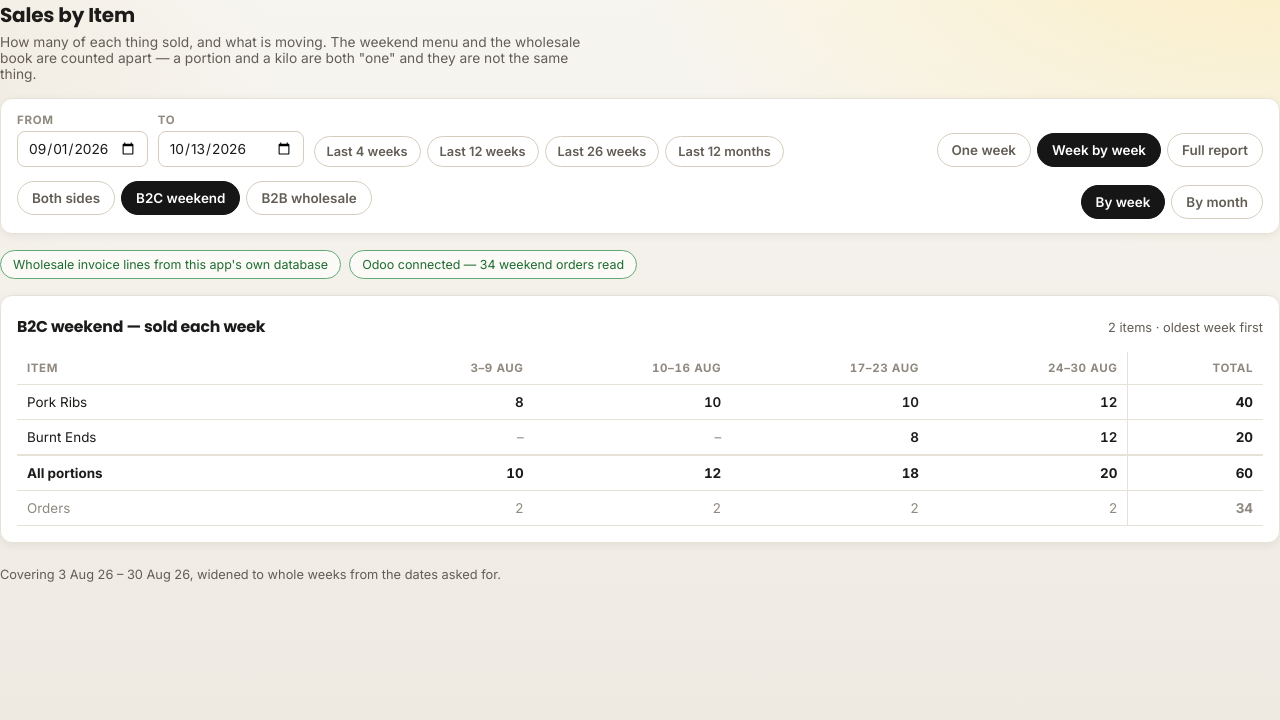
Scenario: shows one side alone when a side is picked
Click the button "Full report" at x=1215, y=150, box [1167, 133, 1263, 167]
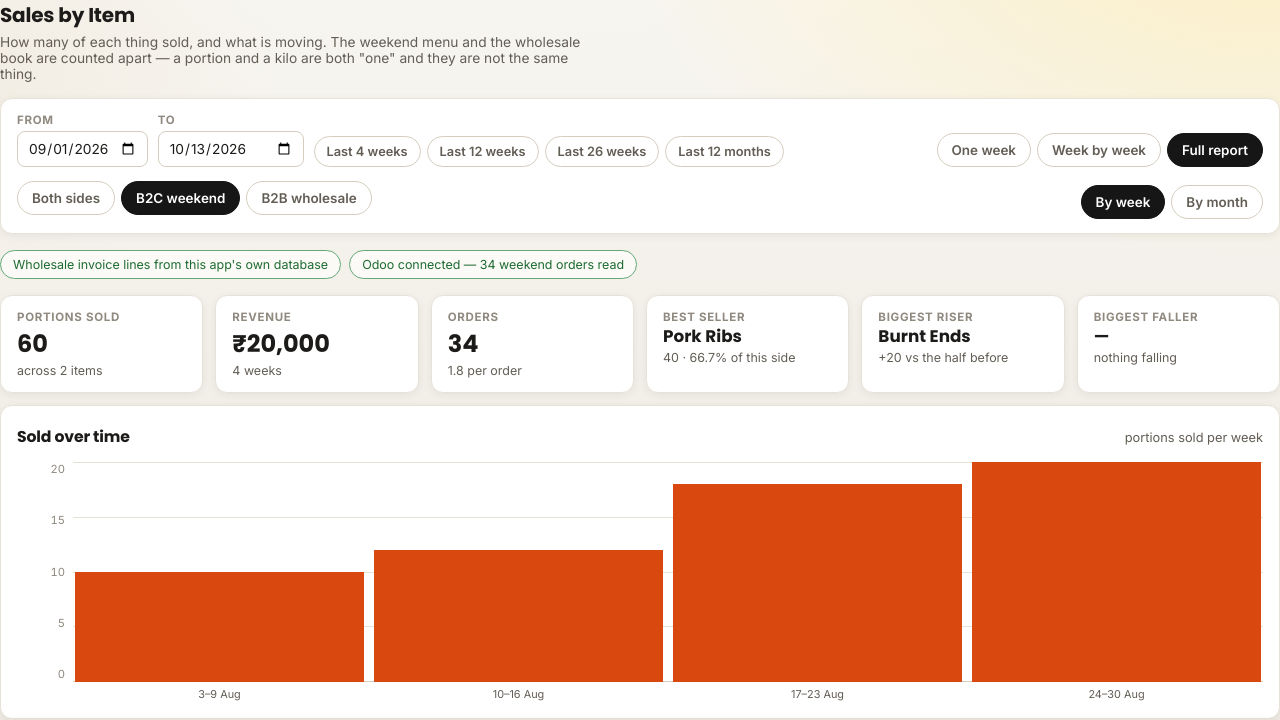
Click the button "Both sides" at x=66, y=198, box [17, 181, 115, 215]
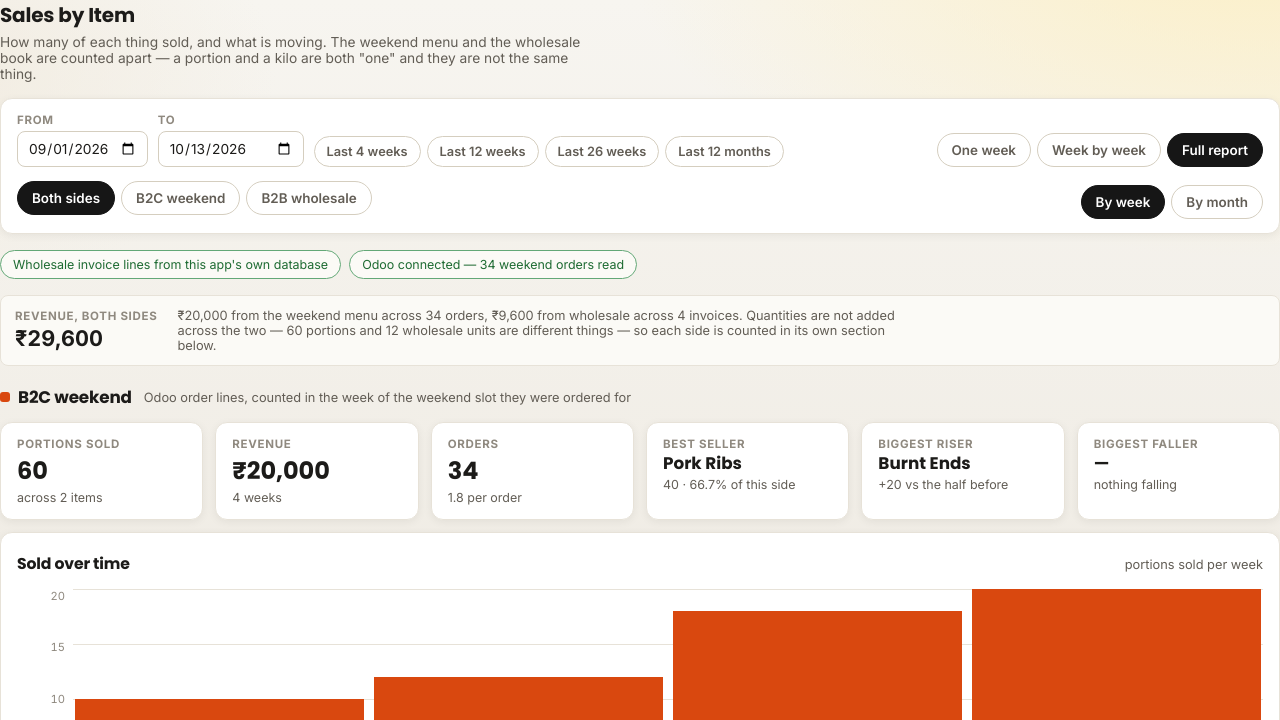
Click the button "B2B wholesale" at x=309, y=198, box [246, 181, 372, 215]
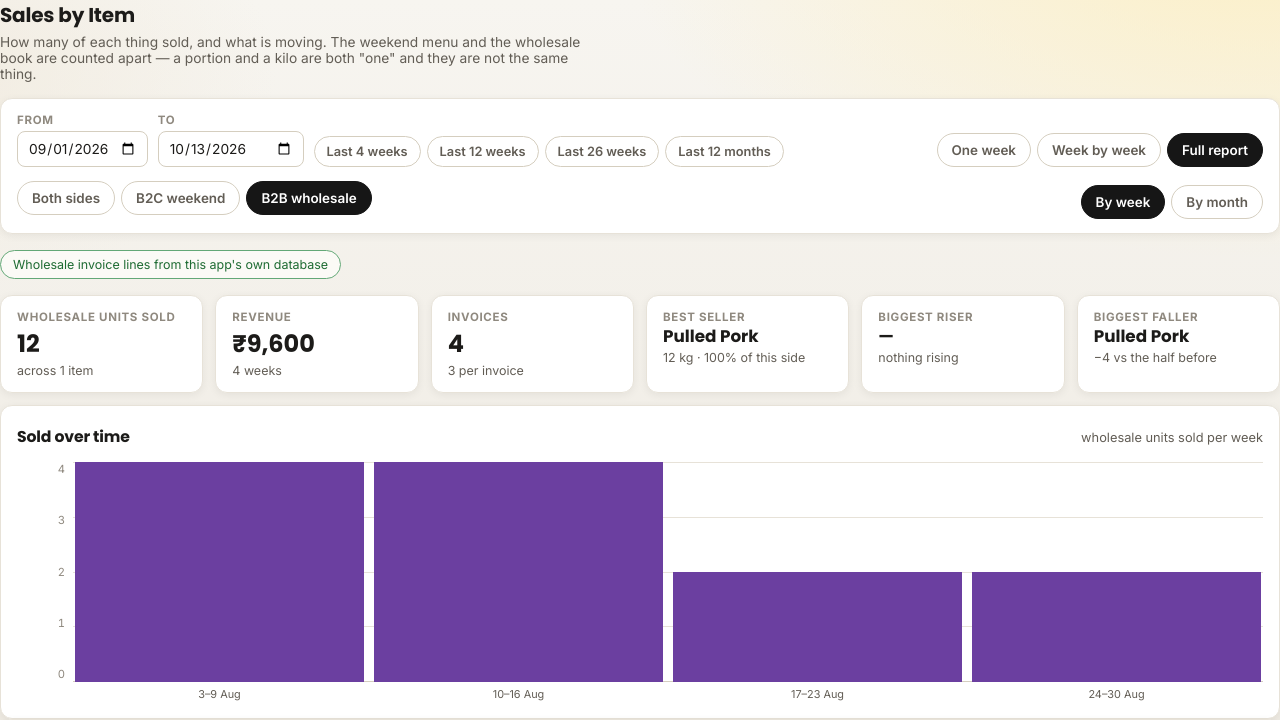
expect the text "Wholesale units sold" is shown: met, box [17, 310, 186, 324]
expect the text "Portions sold" is gone: met
expect the text "Revenue, both sides" is gone: met
